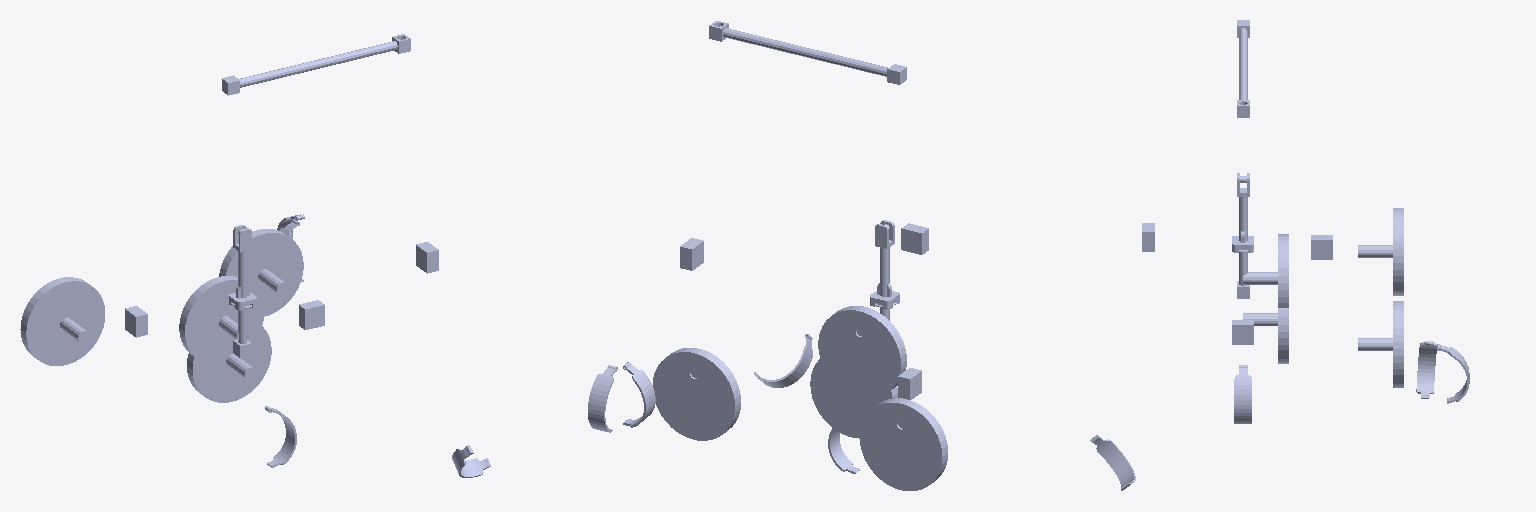
robot.urdf — BOT2:
<?xml version="1.0" encoding="utf-8"?>
<!-- This URDF was automatically created by SolidWorks to URDF Exporter! Originally created by [author] ([email redacted]) 
     Commit Version: 1.4.4-24-g24328f6  Build Version: 1.5.7084.36479
     For more information, please see http://wiki.ros.org/sw_urdf_exporter -->
<robot
  name="BOT2">
  <link
    name="base_link">
    <inertial>
      <origin
        xyz="-0.0053902 0.054165 -2.2639E-16"
        rpy="0 0 0" />
      <mass
        value="14.204" />
      <inertia
        ixx="0.27975"
        ixy="0.0073374"
        ixz="-1.9876E-16"
        iyy="0.50704"
        iyz="-4.0258E-17"
        izz="0.31459" />
    </inertial>
    <visual>
      <origin
        xyz="0 0 0"
        rpy="0 0 0" />
      <geometry>
        <mesh
          filename="package://BOT2/meshes/base_link.STL" />
      </geometry>
      <material
        name="">
        <color
          rgba="0.79216 0.81961 0.93333 1" />
      </material>
    </visual>
    <collision>
      <origin
        xyz="0 0 0"
        rpy="0 0 0" />
      <geometry>
        <mesh
          filename="package://BOT2/meshes/base_link.STL" />
      </geometry>
    </collision>
  </link>
  <link
    name="FRW">
    <inertial>
      <origin
        xyz="1.3878E-17 -9.3458E-05 -0.088949"
        rpy="0 0 0" />
      <mass
        value="0.84038" />
      <inertia
        ixx="0.0021789"
        ixy="6.5052E-19"
        ixz="1.6994E-19"
        iyy="0.0021828"
        iyz="-1.0643E-06"
        izz="0.0039293" />
    </inertial>
    <visual>
      <origin
        xyz="0 0 0"
        rpy="0 0 0" />
      <geometry>
        <mesh
          filename="package://BOT2/meshes/FRW.STL" />
      </geometry>
      <material
        name="">
        <color
          rgba="0.79216 0.81961 0.93333 1" />
      </material>
    </visual>
    <collision>
      <origin
        xyz="0 0 0"
        rpy="0 0 0" />
      <geometry>
        <mesh
          filename="package://BOT2/meshes/FRW.STL" />
      </geometry>
    </collision>
  </link>
  <joint
    name="FRWJ"
    type="continuous">
    <origin
      xyz="0.125 -0.13 -0.025"
      rpy="1.5708 0.39309 -3.1416" />
    <parent
      link="base_link" />
    <child
      link="FRW" />
    <axis
      xyz="0 0 1" />
    <safety_controller
      k_velocity="0" />
  </joint>
  <link
    name="RRW">
    <inertial>
      <origin
        xyz="-2.7756E-17 -9.3458E-05 -0.088949"
        rpy="0 0 0" />
      <mass
        value="0.84038" />
      <inertia
        ixx="0.0021789"
        ixy="3.7947E-19"
        ixz="4.5846E-20"
        iyy="0.0021828"
        iyz="-1.0643E-06"
        izz="0.0039293" />
    </inertial>
    <visual>
      <origin
        xyz="0 0 0"
        rpy="0 0 0" />
      <geometry>
        <mesh
          filename="package://BOT2/meshes/RRW.STL" />
      </geometry>
      <material
        name="">
        <color
          rgba="0.79216 0.81961 0.93333 1" />
      </material>
    </visual>
    <collision>
      <origin
        xyz="0 0 0"
        rpy="0 0 0" />
      <geometry>
        <mesh
          filename="package://BOT2/meshes/RRW.STL" />
      </geometry>
    </collision>
  </link>
  <joint
    name="RRWJ"
    type="continuous">
    <origin
      xyz="-0.125 -0.13 -0.025"
      rpy="1.5708 0.39309 -3.1416" />
    <parent
      link="base_link" />
    <child
      link="RRW" />
    <axis
      xyz="0 0 1" />
    <safety_controller
      k_velocity="0" />
  </joint>
  <link
    name="FLW">
    <inertial>
      <origin
        xyz="0 -9.3458E-05 -0.088949"
        rpy="0 0 0" />
      <mass
        value="0.84038" />
      <inertia
        ixx="0.0021789"
        ixy="-8.7639E-21"
        ixz="2.8296E-19"
        iyy="0.0021828"
        iyz="-1.0643E-06"
        izz="0.0039293" />
    </inertial>
    <visual>
      <origin
        xyz="0 0 0"
        rpy="0 0 0" />
      <geometry>
        <mesh
          filename="package://BOT2/meshes/FLW.STL" />
      </geometry>
      <material
        name="">
        <color
          rgba="0.79216 0.81961 0.93333 1" />
      </material>
    </visual>
    <collision>
      <origin
        xyz="0 0 0"
        rpy="0 0 0" />
      <geometry>
        <mesh
          filename="package://BOT2/meshes/FLW.STL" />
      </geometry>
    </collision>
  </link>
  <joint
    name="FLWJ"
    type="continuous">
    <origin
      xyz="0.125 0.13 -0.025"
      rpy="1.5708 0 0" />
    <parent
      link="base_link" />
    <child
      link="FLW" />
    <axis
      xyz="0 0 1" />
    <safety_controller
      k_velocity="0" />
  </joint>
  <link
    name="RLW">
    <inertial>
      <origin
        xyz="0 -9.3458E-05 -0.088949"
        rpy="0 0 0" />
      <mass
        value="0.84038" />
      <inertia
        ixx="0.0021789"
        ixy="-8.7639E-21"
        ixz="2.8296E-19"
        iyy="0.0021828"
        iyz="-1.0643E-06"
        izz="0.0039293" />
    </inertial>
    <visual>
      <origin
        xyz="0 0 0"
        rpy="0 0 0" />
      <geometry>
        <mesh
          filename="package://BOT2/meshes/RLW.STL" />
      </geometry>
      <material
        name="">
        <color
          rgba="0.79216 0.81961 0.93333 1" />
      </material>
    </visual>
    <collision>
      <origin
        xyz="0 0 0"
        rpy="0 0 0" />
      <geometry>
        <mesh
          filename="package://BOT2/meshes/RLW.STL" />
      </geometry>
    </collision>
  </link>
  <joint
    name="RLWJ"
    type="continuous">
    <origin
      xyz="-0.125 0.13 -0.025"
      rpy="1.5708 0 0" />
    <parent
      link="base_link" />
    <child
      link="RLW" />
    <axis
      xyz="0 0 1" />
    <safety_controller
      k_velocity="0" />
  </joint>
  <link
    name="CL">
    <inertial>
      <origin
        xyz="0.015 0 -6.93889390390723E-18"
        rpy="0 0 0" />
      <mass
        value="0.075" />
      <inertia
        ixx="3.125E-05"
        ixy="4.76321900401482E-37"
        ixz="4.23516473627154E-22"
        iyy="2.125E-05"
        iyz="-1.92107072437275E-21"
        izz="2.125E-05" />
    </inertial>
    <visual>
      <origin
        xyz="0 0 0"
        rpy="0 0 0" />
      <geometry>
        <mesh
          filename="package://BOT2/meshes/CL.STL" />
      </geometry>
      <material
        name="">
        <color
          rgba="0.792156862745098 0.819607843137255 0.933333333333333 1" />
      </material>
    </visual>
    <collision>
      <origin
        xyz="0 0 0"
        rpy="0 0 0" />
      <geometry>
        <mesh
          filename="package://BOT2/meshes/CL.STL" />
      </geometry>
    </collision>
  </link>
  <joint
    name="CLJ"
    type="fixed">
    <origin
      xyz="0.05 0.23 0.125"
      rpy="-1.5707963267949 0 -1.5707963267949" />
    <parent
      link="base_link" />
    <child
      link="CL" />
    <axis
      xyz="0 0 0" />
    <safety_controller
      k_velocity="0" />
  </joint>
  <link
    name="CR">
    <inertial>
      <origin
        xyz="-0.215 0.125 0.05"
        rpy="0 0 0" />
      <mass
        value="0.075" />
      <inertia
        ixx="3.125E-05"
        ixy="-1.6263E-22"
        ixz="4.2352E-22"
        iyy="2.125E-05"
        iyz="-1.3056E-21"
        izz="2.125E-05" />
    </inertial>
    <visual>
      <origin
        xyz="0 0 0"
        rpy="0 0 0" />
      <geometry>
        <mesh
          filename="package://BOT2/meshes/CR.STL" />
      </geometry>
      <material
        name="">
        <color
          rgba="0.79216 0.81961 0.93333 1" />
      </material>
    </visual>
    <collision>
      <origin
        xyz="0 0 0"
        rpy="0 0 0" />
      <geometry>
        <mesh
          filename="package://BOT2/meshes/CR.STL" />
      </geometry>
    </collision>
  </link>
  <joint
    name="CRJ"
    type="fixed">
    <origin
      xyz="0 0 0"
      rpy="1.5707963267949 0 1.5707963267949" />
    <parent
      link="base_link" />
    <child
      link="CR" />
    <axis
      xyz="0 0 0" />
    <safety_controller
      k_velocity="0" />
  </joint>
  <link
    name="FC">
    <inertial>
      <origin
        xyz="0.015 0 -3.187E-17"
        rpy="0 0 0" />
      <mass
        value="0.075" />
      <inertia
        ixx="3.125E-05"
        ixy="3.5293E-22"
        ixz="-3.5293E-22"
        iyy="2.125E-05"
        iyz="-1.5382E-21"
        izz="2.125E-05" />
    </inertial>
    <visual>
      <origin
        xyz="0 0 0"
        rpy="0 0 0" />
      <geometry>
        <mesh
          filename="package://BOT2/meshes/FC.STL" />
      </geometry>
      <material
        name="">
        <color
          rgba="0.79216 0.81961 0.93333 1" />
      </material>
    </visual>
    <collision>
      <origin
        xyz="0 0 0"
        rpy="0 0 0" />
      <geometry>
        <mesh
          filename="package://BOT2/meshes/FC.STL" />
      </geometry>
    </collision>
  </link>
  <joint
    name="FCJ"
    type="fixed">
    <origin
      xyz="0.225 0 0.04"
      rpy="1.5707963267949 0 0" />
    <parent
      link="base_link" />
    <child
      link="FC" />
    <axis
      xyz="0 0 0" />
    <safety_controller
      k_velocity="0" />
  </joint>
  <link
    name="EX1">
    <inertial>
      <origin
        xyz="0.1731 0 2.1106E-17"
        rpy="0 0 0" />
      <mass
        value="0.17024" />
      <inertia
        ixx="1.3441E-05"
        ixy="1.4616E-21"
        ixz="9.6106E-21"
        iyy="0.0037227"
        iyz="-3.7103E-22"
        izz="0.0037222" />
    </inertial>
    <visual>
      <origin
        xyz="0 0 0"
        rpy="0 0 0" />
      <geometry>
        <mesh
          filename="package://BOT2/meshes/EX1.STL" />
      </geometry>
      <material
        name="">
        <color
          rgba="0.79216 0.81961 0.93333 1" />
      </material>
    </visual>
    <collision>
      <origin
        xyz="0 0 0"
        rpy="0 0 0" />
      <geometry>
        <mesh
          filename="package://BOT2/meshes/EX1.STL" />
      </geometry>
    </collision>
  </link>
  <joint
    name="EX1J"
    type="prismatic">
    <origin
      xyz="0 0 0.305"
      rpy="1.5708 0 0" />
    <parent
      link="base_link" />
    <child
      link="EX1" />
    <axis
      xyz="1 0 0" />
    <limit
      lower="-0.325"
      upper="0"
      effort="0"
      velocity="0.1" />
    <safety_controller
      k_velocity="0" />
  </joint>
  <link
    name="EX2">
    <inertial>
      <origin
        xyz="-5.5511E-17 0.10159 1.9145E-17"
        rpy="0 0 0" />
      <mass
        value="0.12697" />
      <inertia
        ixx="0.0012864"
        ixy="4.0577E-21"
        ixz="5.1699E-23"
        iyy="1.2621E-05"
        iyz="7.4926E-21"
        izz="0.0012854" />
    </inertial>
    <visual>
      <origin
        xyz="0 0 0"
        rpy="0 0 0" />
      <geometry>
        <mesh
          filename="package://BOT2/meshes/EX2.STL" />
      </geometry>
      <material
        name="">
        <color
          rgba="0.79216 0.81961 0.93333 1" />
      </material>
    </visual>
    <collision>
      <origin
        xyz="0 0 0"
        rpy="0 0 0" />
      <geometry>
        <mesh
          filename="package://BOT2/meshes/EX2.STL" />
      </geometry>
    </collision>
  </link>
  <joint
    name="EX2J"
    type="prismatic">
    <origin
      xyz="0.4 0 0"
      rpy="0 0 3.1416" />
    <parent
      link="EX1" />
    <child
      link="EX2" />
    <axis
      xyz="0 1 0" />
    <limit
      lower="-0.2"
      upper="0"
      effort="0"
      velocity="0.1" />
    <safety_controller
      k_velocity="0" />
  </joint>
  <link
    name="CH">
    <inertial>
      <origin
        xyz="1.66533453693773E-16 -0.026611627303482 1.46463975305053E-16"
        rpy="0 0 0" />
      <mass
        value="0.0488722339297265" />
      <inertia
        ixx="1.28485509444641E-05"
        ixy="6.42638528589113E-20"
        ixz="7.2378303598359E-22"
        iyy="1.76241649488179E-05"
        iyz="3.69356731399461E-20"
        izz="1.33077781502466E-05" />
    </inertial>
    <visual>
      <origin
        xyz="0 0 0"
        rpy="0 0 0" />
      <geometry>
        <mesh
          filename="package://BOT2/meshes/CH.STL" />
      </geometry>
      <material
        name="">
        <color
          rgba="0.792156862745098 0.819607843137255 0.933333333333333 1" />
      </material>
    </visual>
    <collision>
      <origin
        xyz="0 0 0"
        rpy="0 0 0" />
      <geometry>
        <mesh
          filename="package://BOT2/meshes/CH.STL" />
      </geometry>
    </collision>
  </link>
  <joint
    name="CHJ"
    type="revolute">
    <origin
      xyz="0 0.2475 0"
      rpy="-3.1416 0 0" />
    <parent
      link="EX2" />
    <child
      link="CH" />
    <axis
      xyz="0 0 1" />
    <limit
      lower="0"
      upper="1.6581"
      effort="0"
      velocity="0.5527" />
    <safety_controller
      k_velocity="0" />
  </joint>
  <link
    name="F1">
    <inertial>
      <origin
        xyz="0.0398511817087885 -0.0704218063833564 -5.09348035970802E-09"
        rpy="0 0 0" />
      <mass
        value="0.034078677401874" />
      <inertia
        ixx="6.71489572093971E-05"
        ixy="3.55606349351821E-06"
        ixz="-3.46025915288922E-12"
        iyy="1.32419384317018E-05"
        iyz="1.45357733160219E-11"
        izz="7.24305470154951E-05" />
    </inertial>
    <visual>
      <origin
        xyz="0 0 0"
        rpy="0 0 0" />
      <geometry>
        <mesh
          filename="package://BOT2/meshes/F1.STL" />
      </geometry>
      <material
        name="">
        <color
          rgba="0.792156862745098 0.819607843137255 0.933333333333333 1" />
      </material>
    </visual>
    <collision>
      <origin
        xyz="0 0 0"
        rpy="0 0 0" />
      <geometry>
        <mesh
          filename="package://BOT2/meshes/F1.STL" />
      </geometry>
    </collision>
  </link>
  <joint
    name="F1J"
    type="continuous">
    <origin
      xyz="0 -0.037 -0.022"
      rpy="-1.5708 0.85309 -1.5708" />
    <parent
      link="CH" />
    <child
      link="F1" />
    <axis
      xyz="0 0 1" />
    <safety_controller
      k_velocity="0" />
  </joint>
  <link
    name="F2">
    <inertial>
      <origin
        xyz="0.0110444139547976 -0.0664767748177897 0.0374841133701374"
        rpy="0 0 0" />
      <mass
        value="0.0681572697363621" />
      <inertia
        ixx="0.000139318394052944"
        ixy="7.35967533862082E-06"
        ixz="-9.38271019595517E-07"
        iyy="3.0221593586624E-05"
        iyz="1.36785582206483E-05"
        izz="0.000136102465895359" />
    </inertial>
    <visual>
      <origin
        xyz="0 0 0"
        rpy="0 0 0" />
      <geometry>
        <mesh
          filename="package://BOT2/meshes/F2.STL" />
      </geometry>
      <material
        name="">
        <color
          rgba="0.792156862745098 0.819607843137255 0.933333333333333 1" />
      </material>
    </visual>
    <collision>
      <origin
        xyz="0 0 0"
        rpy="0 0 0" />
      <geometry>
        <mesh
          filename="package://BOT2/meshes/F2.STL" />
      </geometry>
    </collision>
  </link>
  <joint
    name="F2J"
    type="continuous">
    <origin
      xyz="0 -0.037 0.022"
      rpy="1.5708 -1.5023 -1.5708" />
    <parent
      link="CH" />
    <child
      link="F2" />
    <axis
      xyz="0 0 1" />
    <safety_controller
      k_velocity="0" />
  </joint>
  <link
    name="F3">
    <inertial>
      <origin
        xyz="0.0398511951668313 -0.0704218201958535 -1.97907967791622E-09"
        rpy="0 0 0" />
      <mass
        value="0.0340786290959295" />
      <inertia
        ixx="6.71488287887255E-05"
        ixy="3.55606236566693E-06"
        ixz="-5.53200177366679E-13"
        iyy="1.32419212837711E-05"
        iyz="7.87356655194435E-12"
        izz="7.24304479687471E-05" />
    </inertial>
    <visual>
      <origin
        xyz="0 0 0"
        rpy="0 0 0" />
      <geometry>
        <mesh
          filename="package://BOT2/meshes/F3.STL" />
      </geometry>
      <material
        name="">
        <color
          rgba="0.792156862745098 0.819607843137255 0.933333333333333 1" />
      </material>
    </visual>
    <collision>
      <origin
        xyz="0 0 0"
        rpy="0 0 0" />
      <geometry>
        <mesh
          filename="package://BOT2/meshes/F3.STL" />
      </geometry>
    </collision>
  </link>
  <joint
    name="F3J"
    type="continuous">
    <origin
      xyz="0 -0.037 0.022"
      rpy="1.5708 -1.5023 -1.5708" />
    <parent
      link="CH" />
    <child
      link="F3" />
    <axis
      xyz="0 0 1" />
    <safety_controller
      k_velocity="0" />
  </joint>
  <link
    name="F4">
    <inertial>
      <origin
        xyz="0.0398511817699755 -0.070421804830374 -4.94445050317461E-09"
        rpy="0 0 0" />
      <mass
        value="0.0340786768926327" />
      <inertia
        ixx="6.71489557657092E-05"
        ixy="3.55606446625389E-06"
        ixz="-3.32283127057003E-12"
        iyy="1.3241938592554E-05"
        iyz="1.43311237665959E-11"
        izz="7.24305459452712E-05" />
    </inertial>
    <visual>
      <origin
        xyz="0 0 0"
        rpy="0 0 0" />
      <geometry>
        <mesh
          filename="package://BOT2/meshes/F4.STL" />
      </geometry>
      <material
        name="">
        <color
          rgba="0.792156862745098 0.819607843137255 0.933333333333333 1" />
      </material>
    </visual>
    <collision>
      <origin
        xyz="0 0 0"
        rpy="0 0 0" />
      <geometry>
        <mesh
          filename="package://BOT2/meshes/F4.STL" />
      </geometry>
    </collision>
  </link>
  <joint
    name="F4J"
    type="continuous">
    <origin
      xyz="0.022 -0.037 0"
      rpy="0 0 -0.65324" />
    <parent
      link="CH" />
    <child
      link="F4" />
    <axis
      xyz="0 0 1" />
    <safety_controller
      k_velocity="0" />
  </joint>
</robot>

--- What the picture shows (computed from the rendered views, not written in the file) ---
Views: 3 orthographic renders of the robot side by side, from view 1: azimuth 30°, elevation 25°; view 2: azimuth 150°, elevation 25°; view 3: azimuth 270°, elevation 25°.
Model BOT2 with 15 links and 14 joints (1 revolute, 8 continuous, 2 prismatic, 3 fixed), rooted at base_link, posed all joints at 0.
Visible links, largest first — view 1: RLW, RRW, FLW, FRW, EX1, EX2, F1, F4, CR, CL, FC; view 2: RLW, FLW, FRW, RRW, EX1, F2, EX2, F1, CR, FC, CL, F4; view 3: F2, RLW, FLW, RRW, EX2, EX1, FRW, F1, F4, CL, FC.
Link boxes in pixels (left/top/right/bottom): RLW: left=20, top=277, right=104, bottom=365; RRW: left=179, top=276, right=263, bottom=364; FLW: left=219, top=229, right=303, bottom=316; FRW: left=187, top=326, right=271, bottom=402; EX1: left=222, top=34, right=410, bottom=95; EX2: left=233, top=225, right=251, bottom=357; F1: left=452, top=445, right=490, bottom=477; F4: left=265, top=406, right=296, bottom=467; CR: left=299, top=300, right=324, bottom=329; CL: left=125, top=306, right=147, bottom=337; FC: left=416, top=242, right=438, bottom=273; RLW: left=860, top=398, right=947, bottom=490; FLW: left=653, top=348, right=740, bottom=440; FRW: left=810, top=350, right=897, bottom=438; RRW: left=818, top=306, right=906, bottom=389; EX1: left=709, top=21, right=906, bottom=84; F2: left=588, top=362, right=655, bottom=432; EX2: left=875, top=220, right=894, bottom=320; F1: left=754, top=334, right=812, bottom=387; CR: left=901, top=223, right=928, bottom=254; FC: left=680, top=238, right=703, bottom=270; CL: left=898, top=368, right=921, bottom=399; F4: left=828, top=428, right=859, bottom=473; F2: left=1416, top=341, right=1469, bottom=403; RLW: left=1358, top=208, right=1403, bottom=295; FLW: left=1358, top=301, right=1403, bottom=387; RRW: left=1243, top=234, right=1288, bottom=307; EX2: left=1237, top=173, right=1249, bottom=298; EX1: left=1237, top=20, right=1249, bottom=117; FRW: left=1243, top=308, right=1288, bottom=363; F1: left=1090, top=435, right=1135, bottom=490; F4: left=1234, top=365, right=1251, bottom=423; CL: left=1311, top=235, right=1332, bottom=259; FC: left=1232, top=320, right=1253, bottom=344.
Bounding box of the posed robot: 0.83 × 0.862 × 0.9554 m (x, y, z).
Meshes: 15 distinct files referenced, 14 mesh visuals loaded (14 binary STL); not drawn: 1 (reference not matched to a file when rendering).